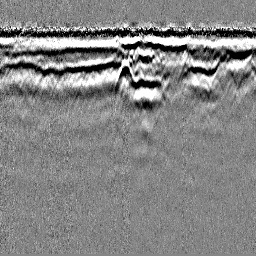cavity: (114, 57, 136, 88)
